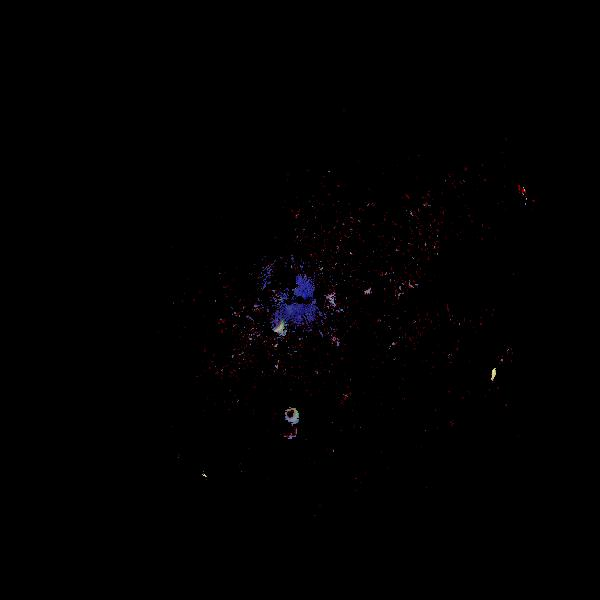roost: (286, 408, 301, 423)
